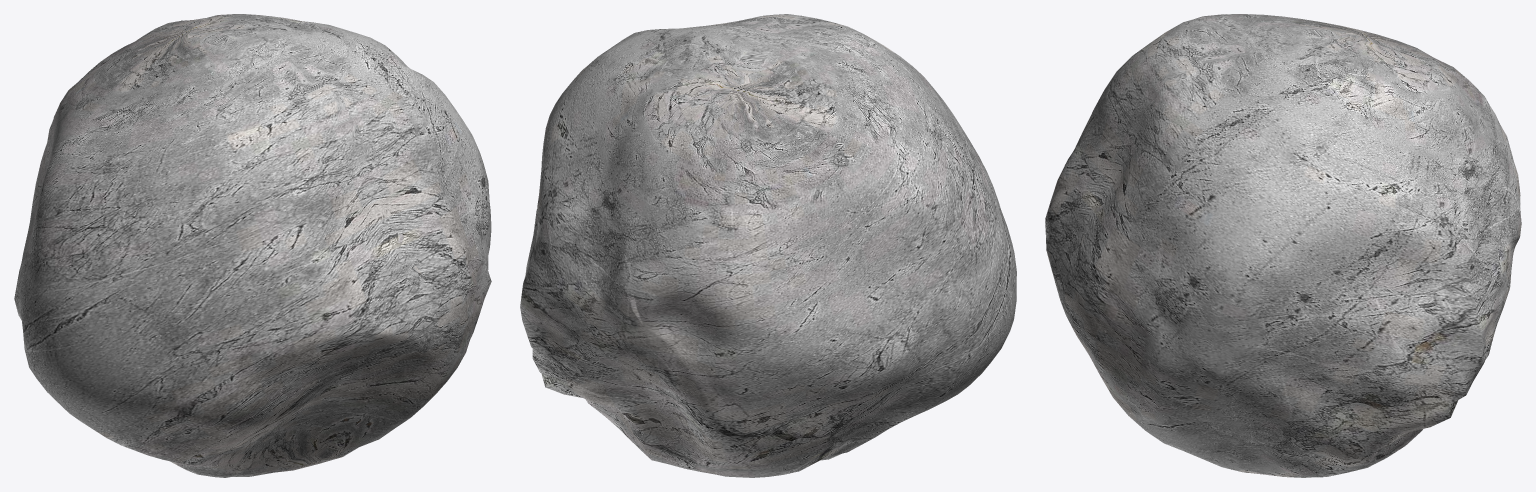
File: proteus.gltf
3 views of the same model, side by side, from view 1: azimuth 30°, elevation 25°; view 2: azimuth 150°, elevation 25°; view 3: azimuth 270°, elevation 25° (orthographic).
Parts seen in each view (by area): view 1: proteus; view 2: proteus; view 3: proteus.
Boxes of the visible parts, x1,y1,x2,y2 form: proteus: [14, 14, 491, 477]; proteus: [520, 14, 1016, 477]; proteus: [1045, 14, 1521, 477].
Bounding box in the file's own units: 437 × 398 × 411.
Materials: 1 (1 with a texture image).
